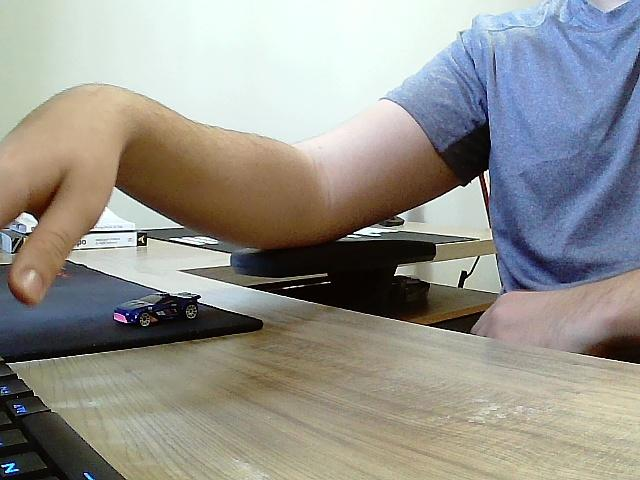Carro: (114, 294, 201, 328)
